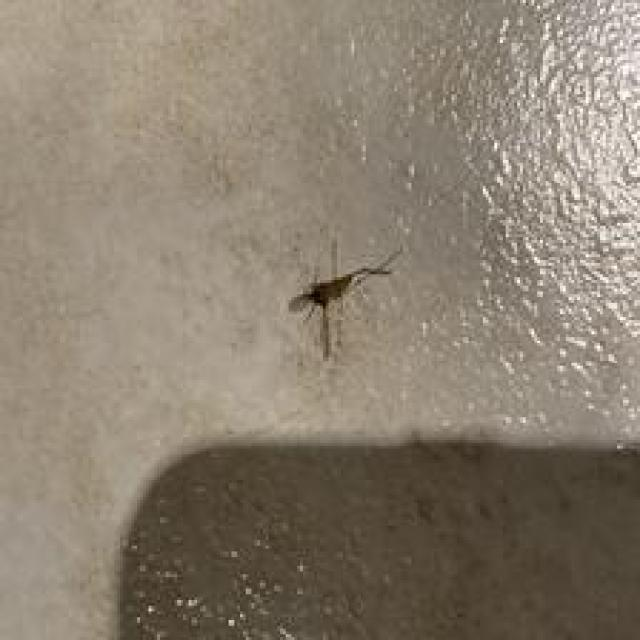Culex: (286, 240, 403, 360)
